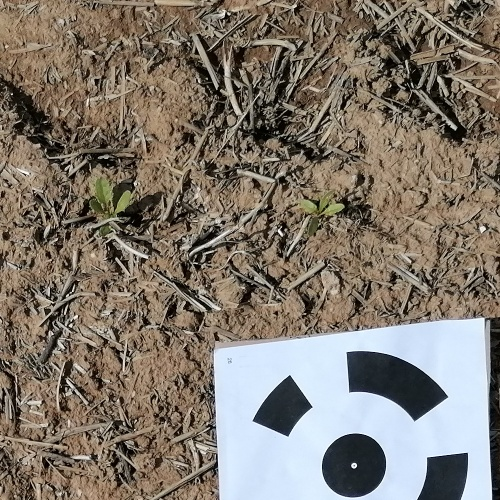beet: (87, 177, 133, 236), (296, 190, 344, 236)
